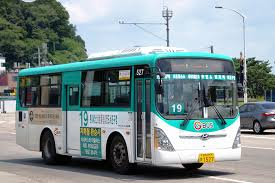bnum: (169, 102, 184, 114)
